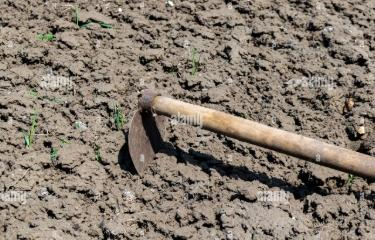HOUE: (127, 86, 375, 191)
